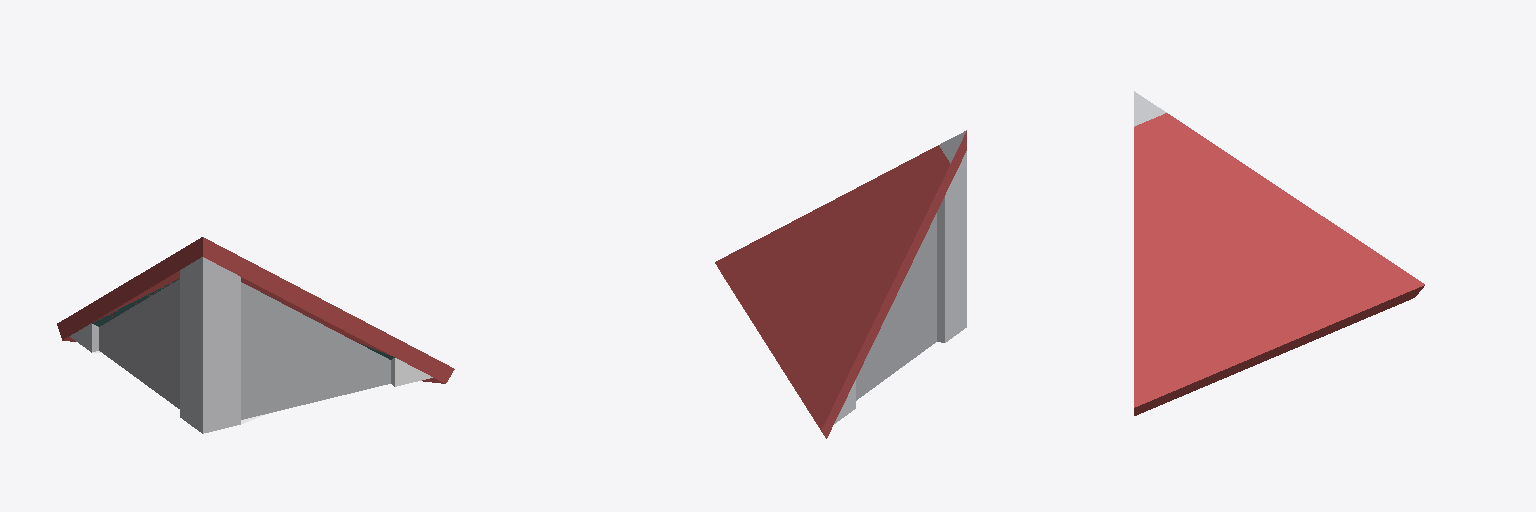
The model's file is Roof_Corner_Red_01.obj.
3 views of the same model, side by side, from view 1: azimuth 30°, elevation 25°; view 2: azimuth 150°, elevation 25°; view 3: azimuth 270°, elevation 25° (orthographic).
Parts seen in each view (by area): view 1: Mesh1 Roof_Corner_Red Model; view 2: Mesh1 Roof_Corner_Red Model; view 3: Mesh1 Roof_Corner_Red Model.
Boxes of the visible parts, box(x1,y1,x2,y2) form: Mesh1 Roof_Corner_Red Model: box(57, 237, 454, 433); Mesh1 Roof_Corner_Red Model: box(715, 130, 966, 438); Mesh1 Roof_Corner_Red Model: box(1134, 91, 1424, 415).
Size of the model in its own units: 3.28 by 2.57 by 3.28.